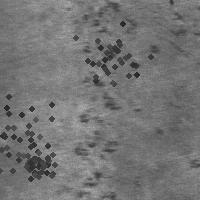rolled-in_scale: (71, 3, 129, 197), (65, 6, 159, 100), (0, 78, 62, 190), (121, 4, 192, 72), (12, 140, 60, 188)
